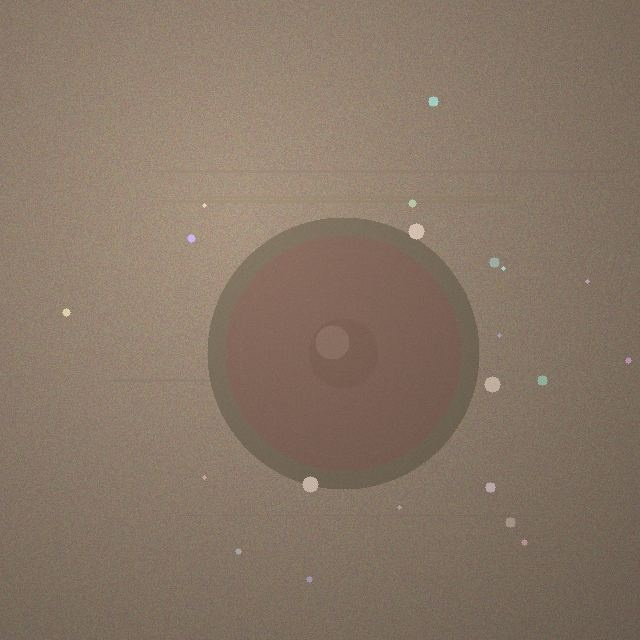overburn: (207, 217, 479, 489)
